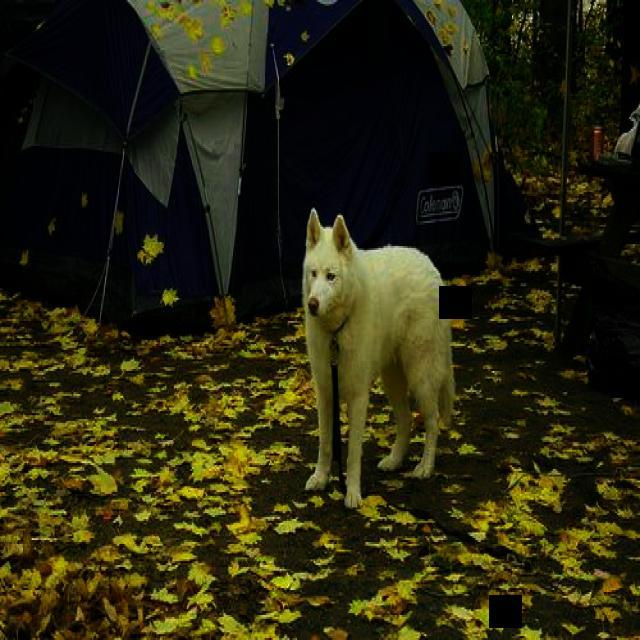adult_dog: (300, 209, 457, 512)
